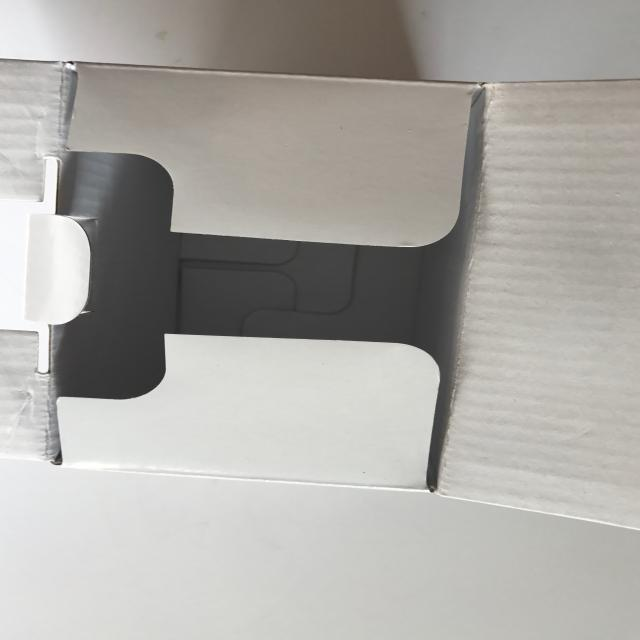cardboard: (0, 47, 640, 539)
